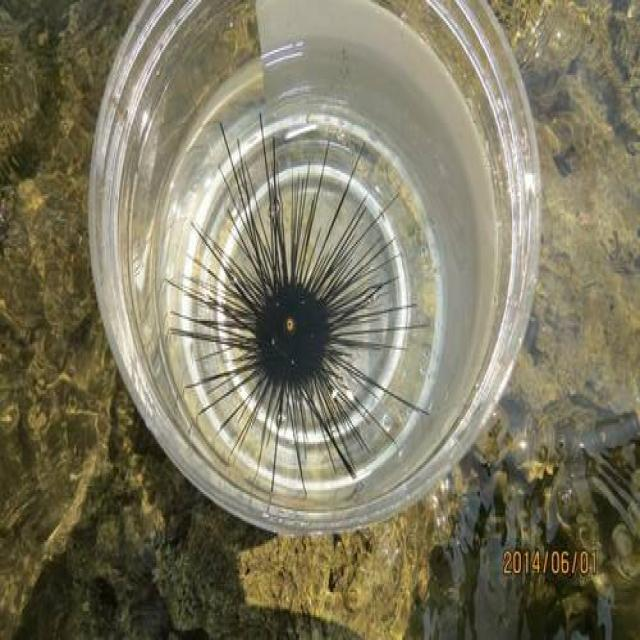Urchin: (166, 115, 430, 508)
